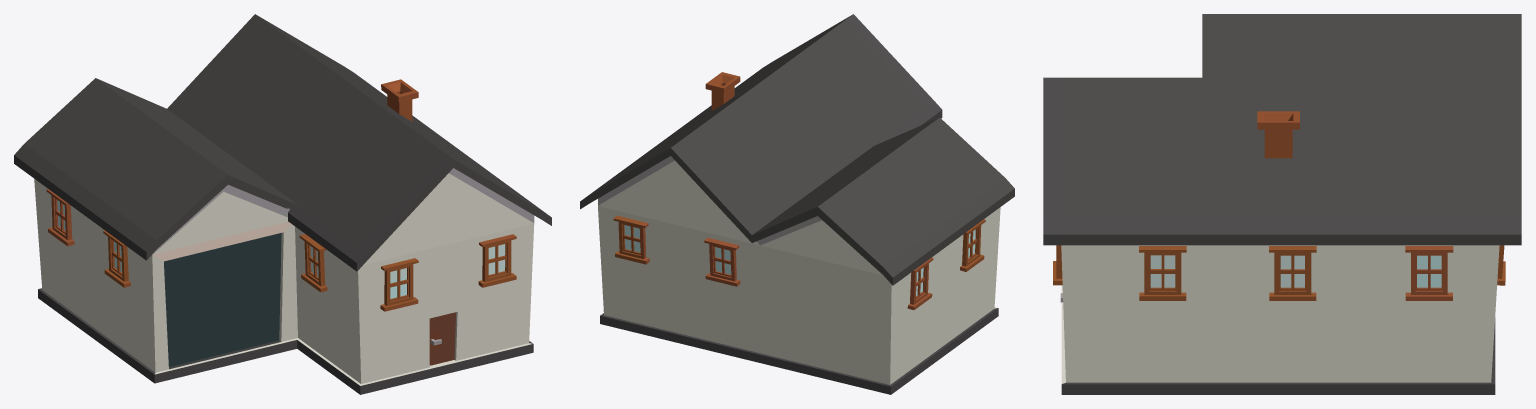
File: quaternius-buildings-house-5.glb
3 renders of one model, left to right at view 1: azimuth 30°, elevation 25°; view 2: azimuth 150°, elevation 25°; view 3: azimuth 270°, elevation 25°, orthographic. The views are drawn at different scales.
Parts seen in each view (by area): view 1: House5; view 2: House5; view 3: House5.
Part boxes in pixels (x1=…): House5: x1=14, y1=14, x2=551, y2=394; House5: x1=580, y1=14, x2=1014, y2=394; House5: x1=1043, y1=14, x2=1521, y2=394.
Size of the model in its own units: 2.16 by 1.34 by 2.19.
Materials: 1 (1 with a texture image).
